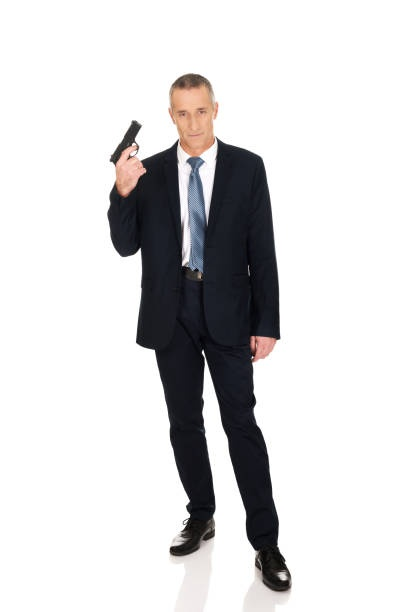gun: (108, 118, 148, 182)
person: (103, 69, 296, 593)
